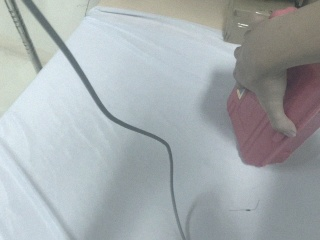box: (223, 1, 298, 44)
